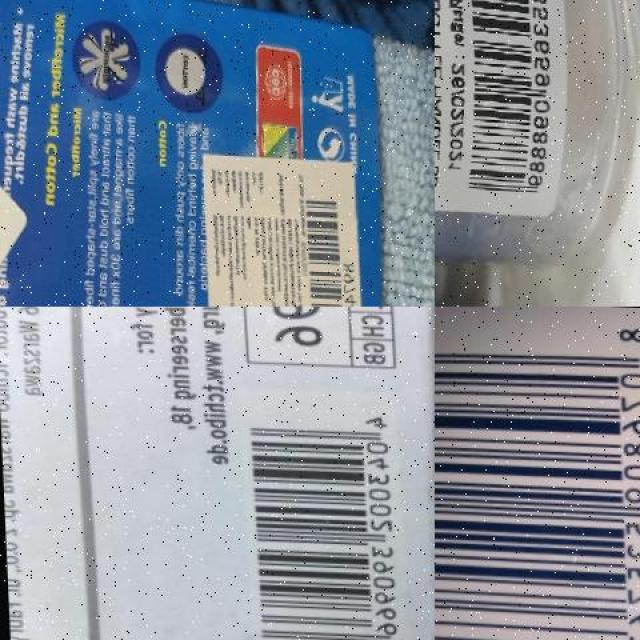Barcode: (434, 306, 640, 640), (239, 384, 404, 640), (450, 0, 556, 205), (296, 185, 356, 307)
